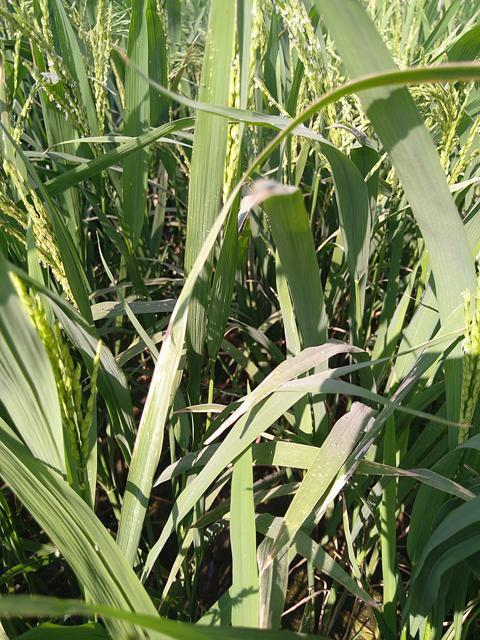Leaf Blight: (313, 434, 376, 525), (356, 460, 477, 502), (239, 179, 298, 235), (257, 537, 274, 631), (389, 372, 423, 403)
